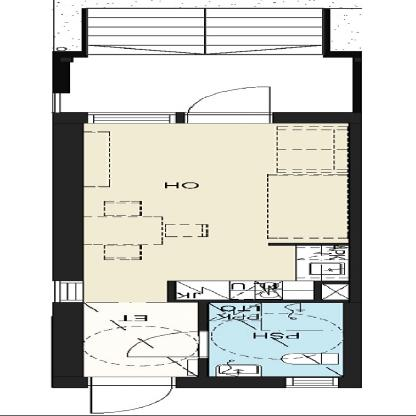door: (182, 83, 270, 124), (86, 375, 177, 413), (122, 329, 206, 356)
window: (55, 279, 86, 304), (92, 115, 171, 123), (283, 377, 338, 387)
zone: (86, 121, 352, 299), (57, 5, 357, 112), (211, 303, 344, 376), (89, 301, 192, 377)
